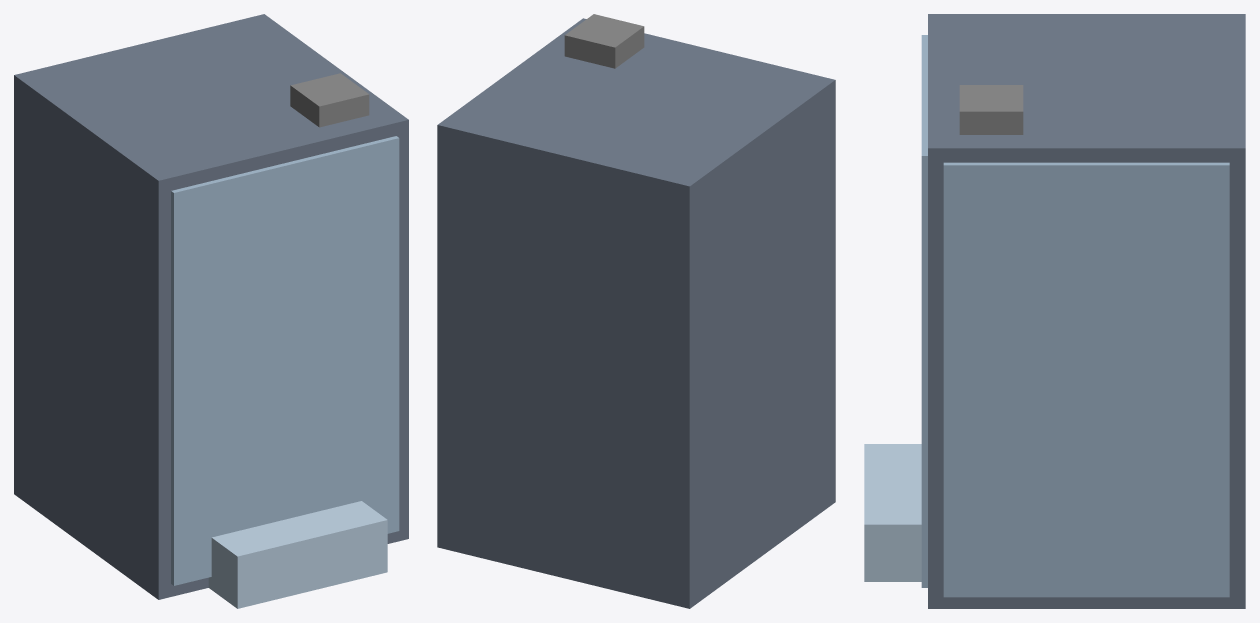
The model's file is env-mod-office-tower.glb.
3 views of the same model, side by side, from view 1: azimuth 30°, elevation 25°; view 2: azimuth 150°, elevation 25°; view 3: azimuth 270°, elevation 25° (orthographic). The views are drawn at different scales.
Bounding box in the file's own units: 5.1 × 8.4 × 6.
